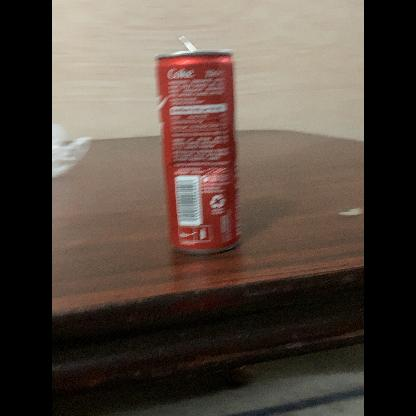Dent_Can: (166, 154, 207, 183), (199, 162, 229, 188)
Lid_Open: (172, 32, 206, 60)
Tin_Can: (150, 34, 246, 266)
